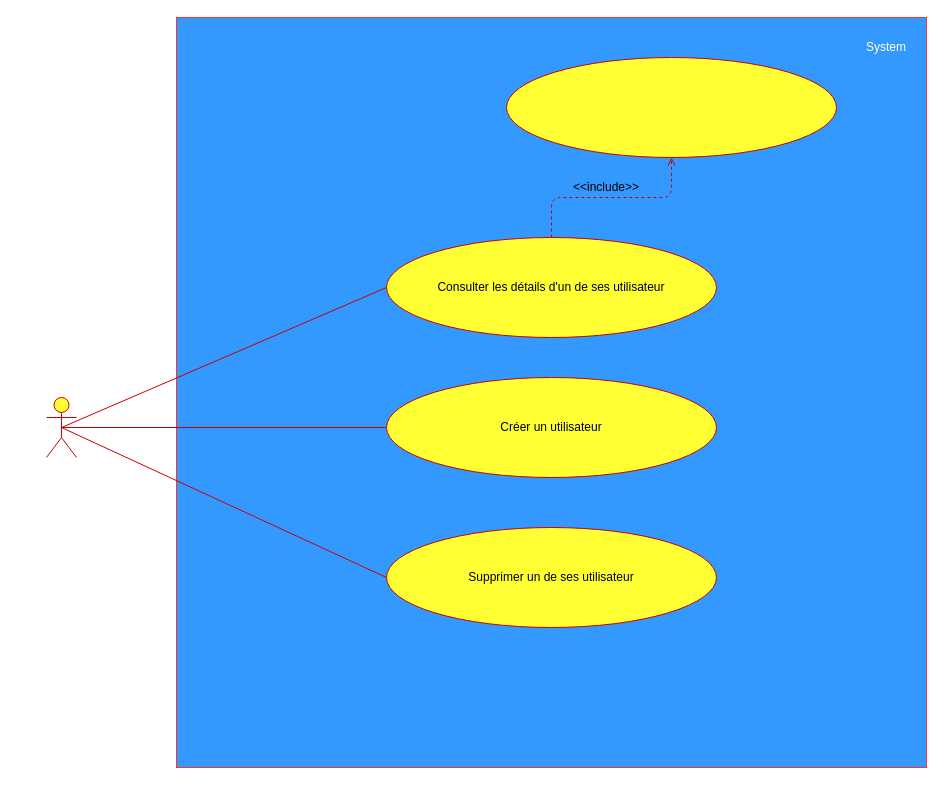
Some shapes in this 944 by 785 pixel diagram are drawn without their labels. The shapes that lost their labels are listed below. From the top down, each one's centre as x and y in pixels, then its label:
At (x=671, y=107): "Consulter la liste de ses utilisateurs".
At (x=61, y=427): "Client authentifié".
